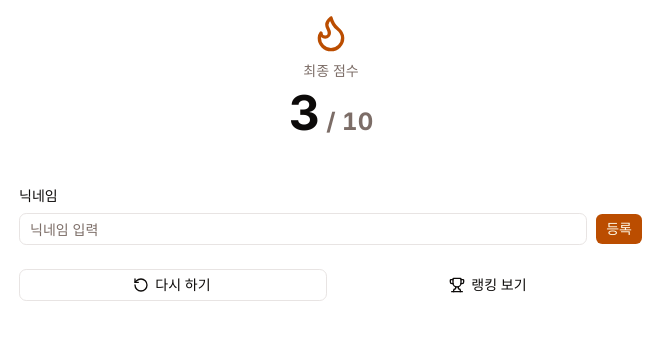
ResultScreen › 빈 닉네임으로 등록 → '닉네임을 입력하세요' 안내, 등록되지 않음
Click the button "등록".
click(619, 229)  # box left=595, top=213, right=643, bottom=245
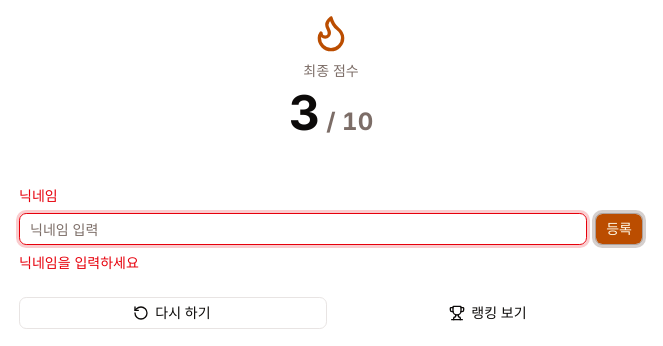
Now the text "닉네임을 입력하세요" is shown, box left=19, top=254, right=139, bottom=271
